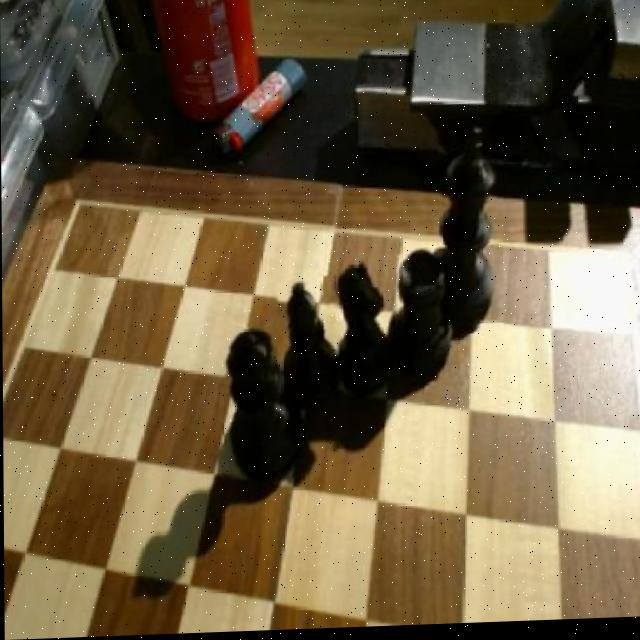bishop: (277, 278, 342, 424)
black-bishop: (439, 119, 502, 337)
black-king: (334, 262, 395, 399)
black-pawn: (223, 330, 310, 483)
black-queen: (392, 252, 458, 388)
